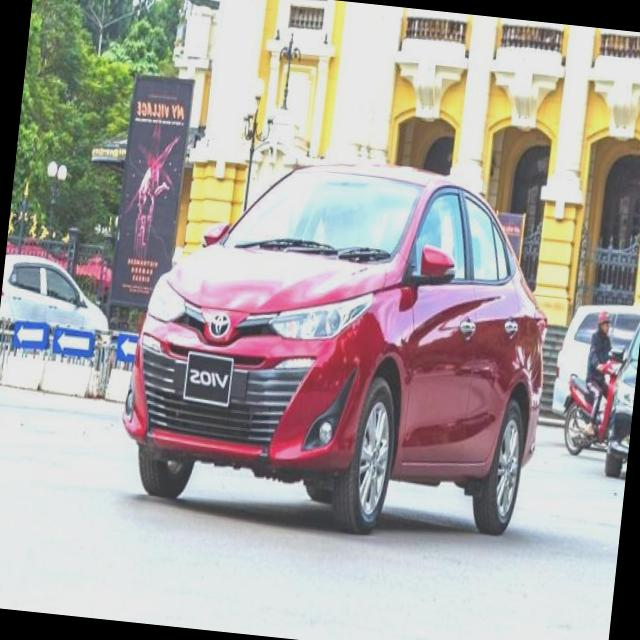ToyotaVios: (111, 136, 566, 551)
